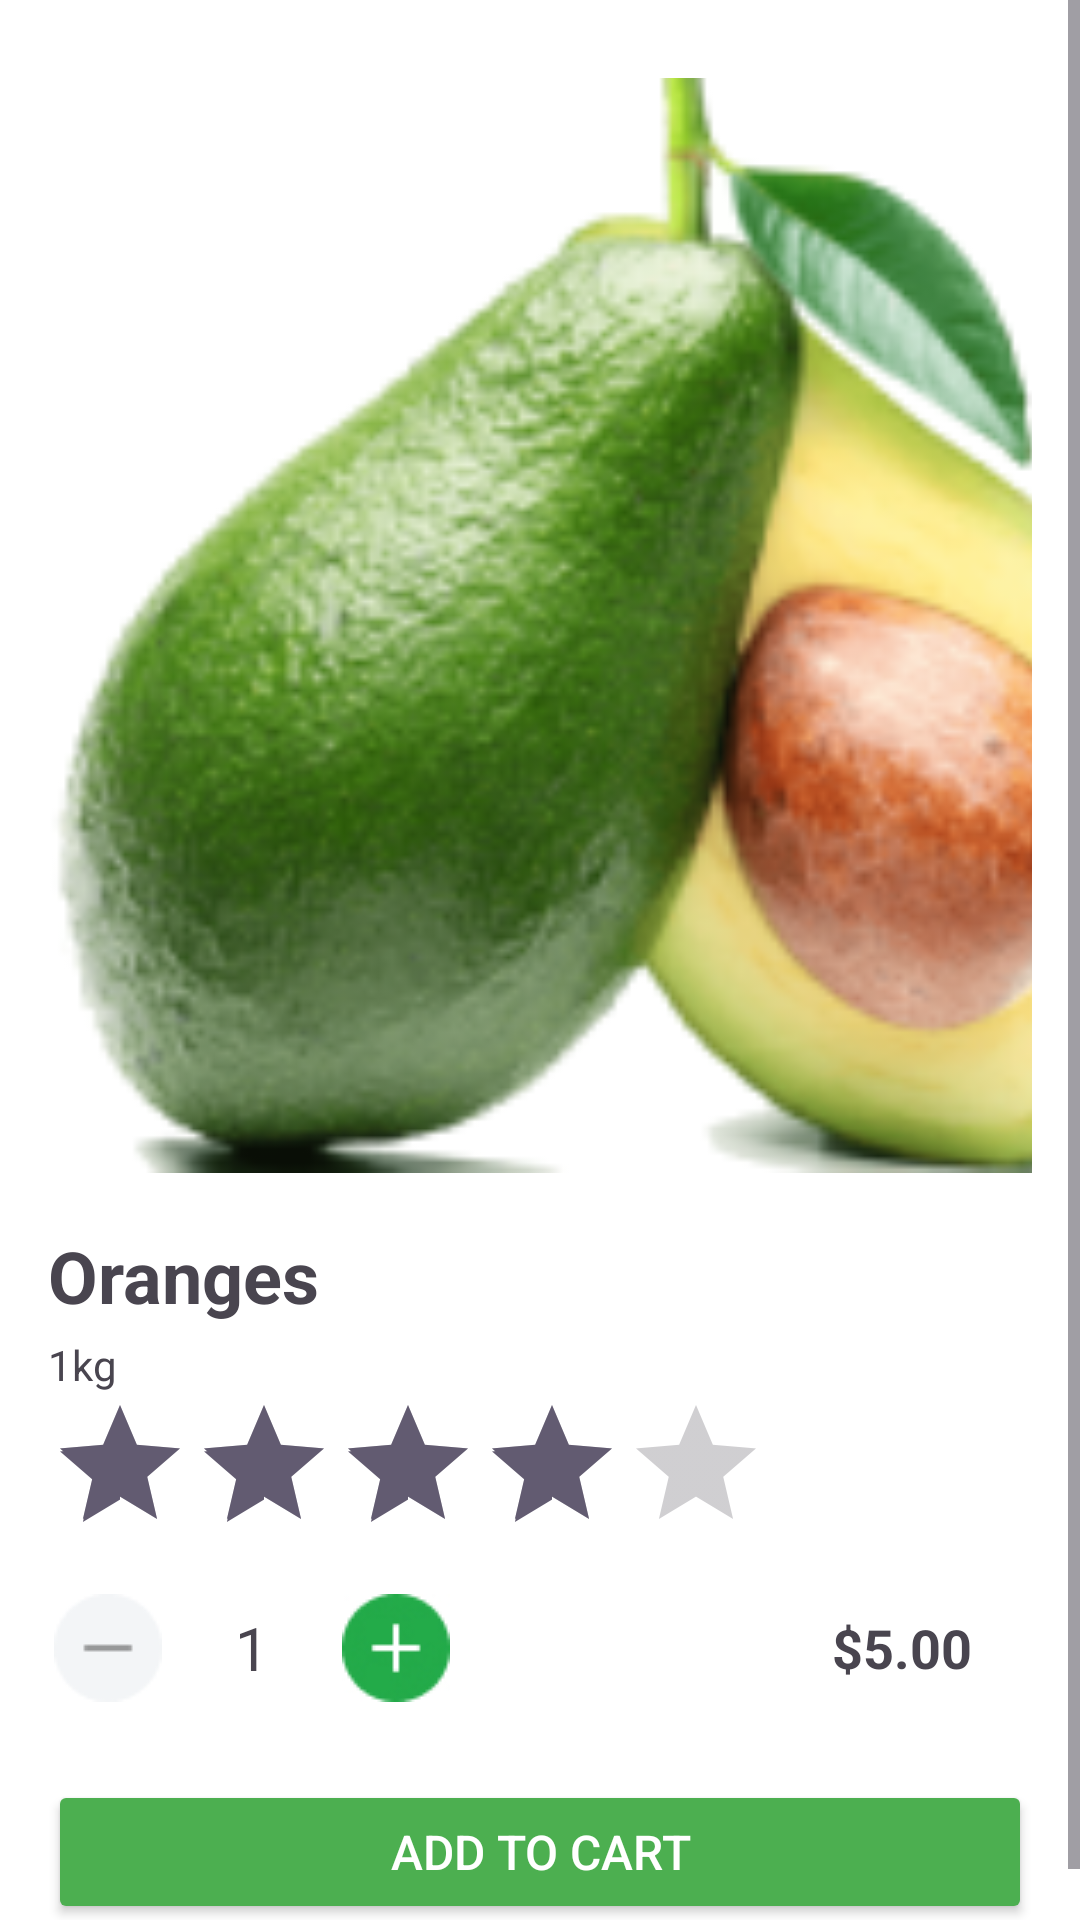

Locate icon controls on the screen. Image size 1080w x 1920h, boxes as (x1, y1, x2, y2).
imgadd: (342, 1594, 450, 1702)
